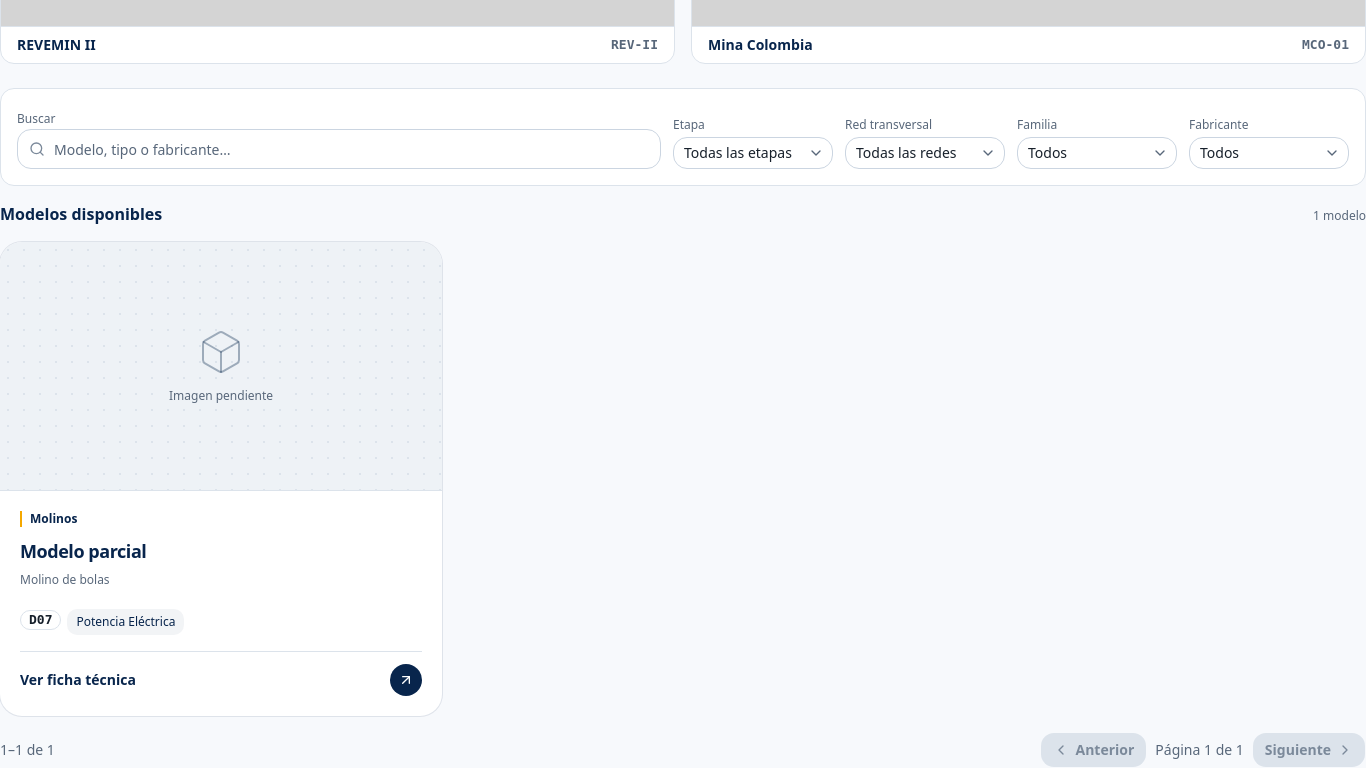
Test case: Catálogo global › Filtros por etapa y red transversal › la tarjeta y la ficha muestran las etapas donde participa el modelo, no todas las posibles del tipo
The width and height of the screenshot is (1366, 768).
(page scrolled)
Check: the icon "D07" is shown, box [20,610,62,630]
Click the button with aria-label "Ver la ficha técnica de Modelo parcial": [221, 479] box [0,242,442,716]
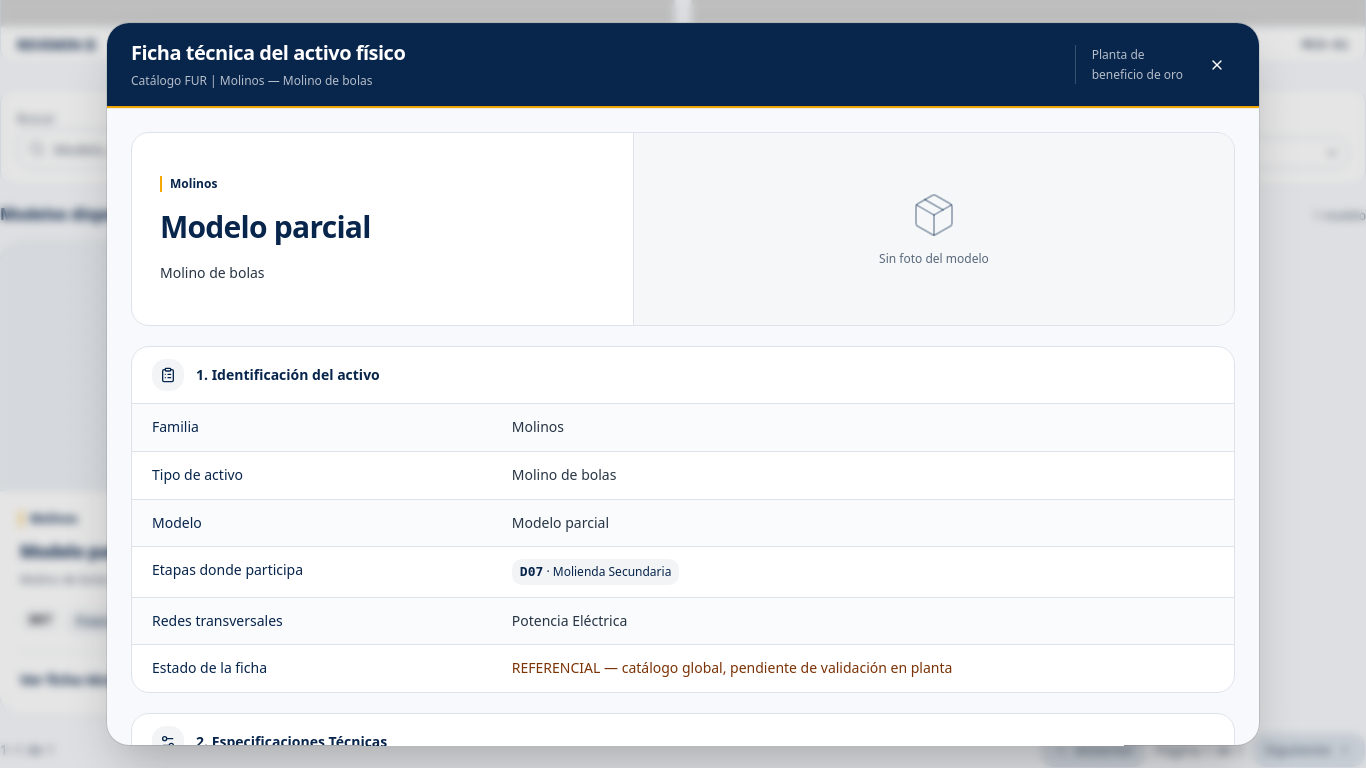
Check: the text "Etapas donde participa" is shown, box [152,560,303,579]
Check: the text "D07" is shown, box [520,564,543,579]
